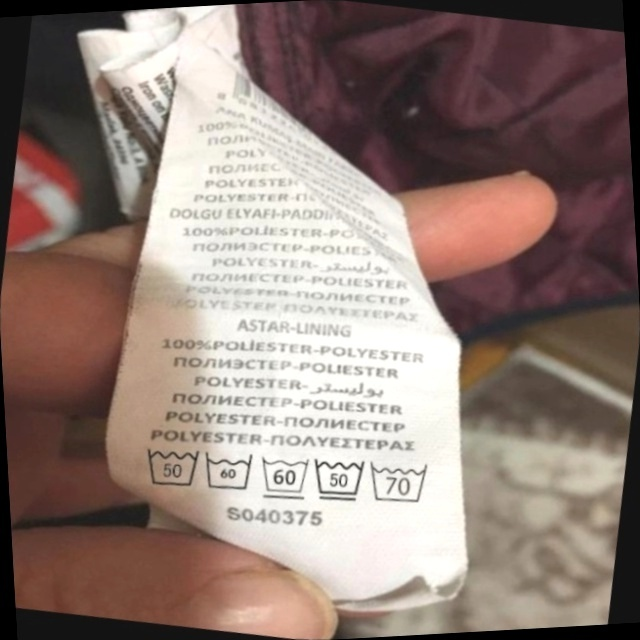50C: (132, 430, 212, 502), (303, 445, 377, 514)
60C: (251, 443, 322, 510), (195, 439, 265, 504)
70C: (362, 448, 442, 516)
